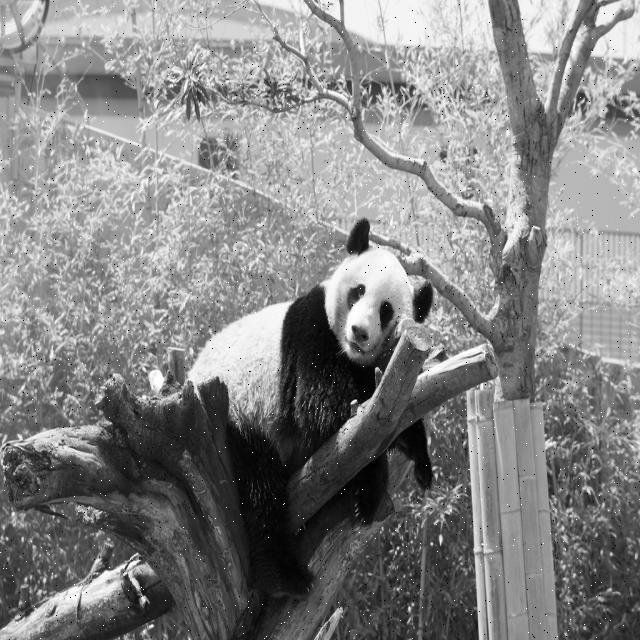panda: (180, 212, 432, 601)
